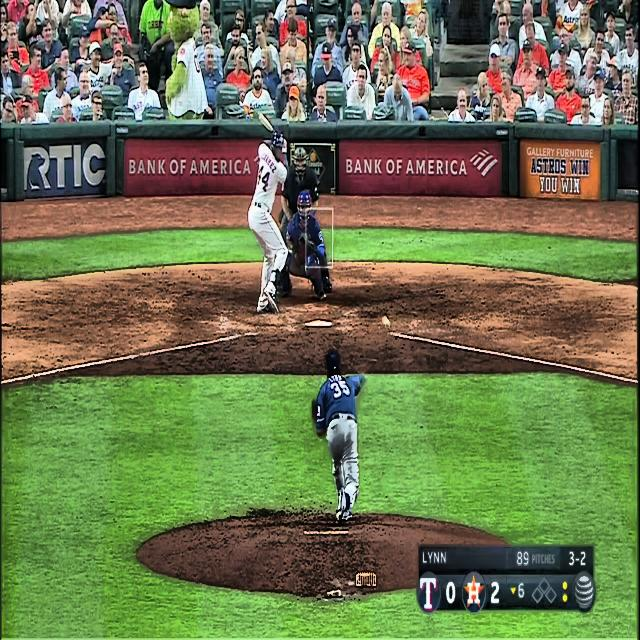baseball: (381, 314, 390, 328)
